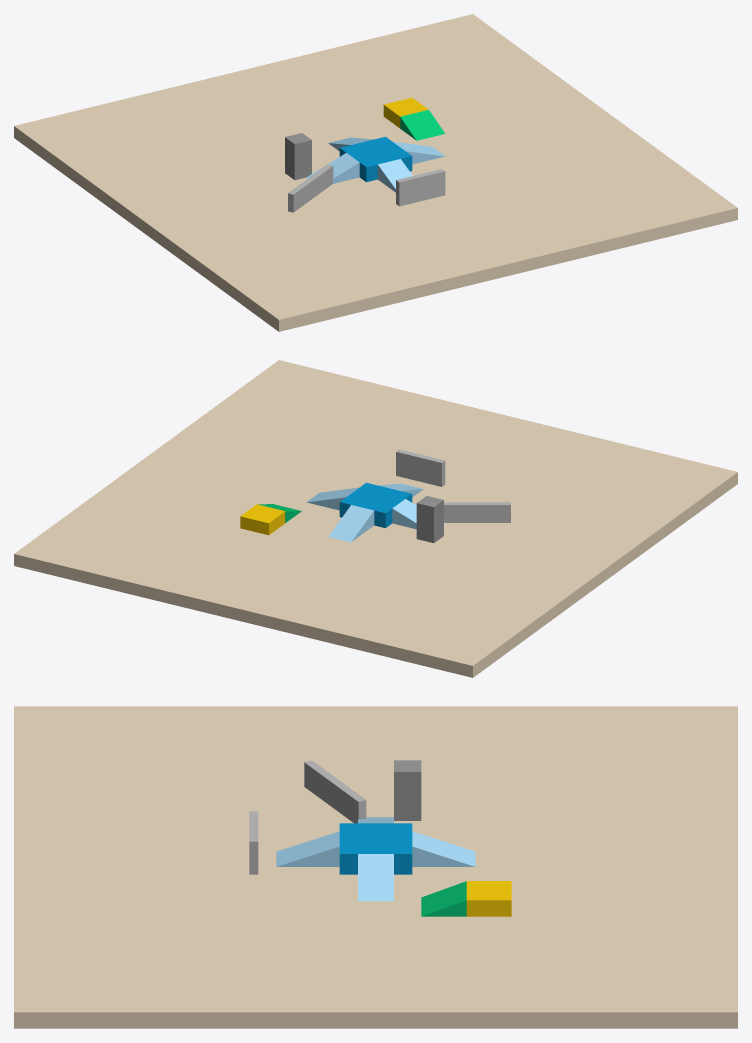
Rendered from level.glb.
3 renders of one model, top to bottom at view 1: azimuth 30°, elevation 25°; view 2: azimuth 150°, elevation 25°; view 3: azimuth 270°, elevation 25°, orthographic. The views are drawn at different scales.
Visible parts, largest first — view 1: VIS_Floor, VIS_CentralHub, VIS_SouthWall, VIS_WestPillar, VIS_YawedWall, VIS_Corner, VIS_CornerPlatform, VIS_West, VIS_South, VIS_East; view 2: VIS_Floor, VIS_CentralHub, VIS_YawedWall, VIS_SouthWall, VIS_WestPillar, VIS_North, VIS_CornerPlatform, VIS_West, VIS_East; view 3: VIS_Floor, VIS_CentralHub, VIS_YawedWall, VIS_East, VIS_WestPillar, VIS_North, VIS_South, VIS_CornerPlatform, VIS_Corner, VIS_SouthWall.
Boxes of the visible parts, x1,y1,x2,y2 form: VIS_Floor: [14, 14, 737, 331]; VIS_CentralHub: [339, 136, 412, 182]; VIS_SouthWall: [396, 169, 445, 206]; VIS_WestPillar: [285, 133, 311, 180]; VIS_YawedWall: [288, 164, 333, 212]; VIS_Corner: [400, 110, 445, 140]; VIS_CornerPlatform: [383, 97, 428, 128]; VIS_West: [306, 153, 359, 183]; VIS_South: [377, 159, 412, 192]; VIS_East: [393, 141, 445, 164]; VIS_Floor: [14, 360, 737, 677]; VIS_CentralHub: [339, 482, 412, 528]; VIS_YawedWall: [444, 502, 510, 522]; VIS_SouthWall: [396, 449, 445, 486]; VIS_WestPillar: [416, 496, 443, 543]; VIS_North: [328, 505, 374, 542]; VIS_CornerPlatform: [240, 504, 285, 535]; VIS_West: [392, 499, 445, 529]; VIS_East: [306, 487, 358, 510]; VIS_Floor: [14, 706, 737, 1028]; VIS_CentralHub: [339, 823, 412, 874]; VIS_YawedWall: [304, 760, 366, 823]; VIS_East: [358, 854, 393, 901]; VIS_WestPillar: [394, 760, 421, 820]; VIS_North: [412, 831, 475, 866]; VIS_South: [276, 831, 339, 866]; VIS_CornerPlatform: [466, 881, 511, 916]; VIS_Corner: [421, 881, 466, 916]; VIS_SouthWall: [249, 811, 258, 874].
Bounding box in the file's own units: 80 × 8 × 80.
